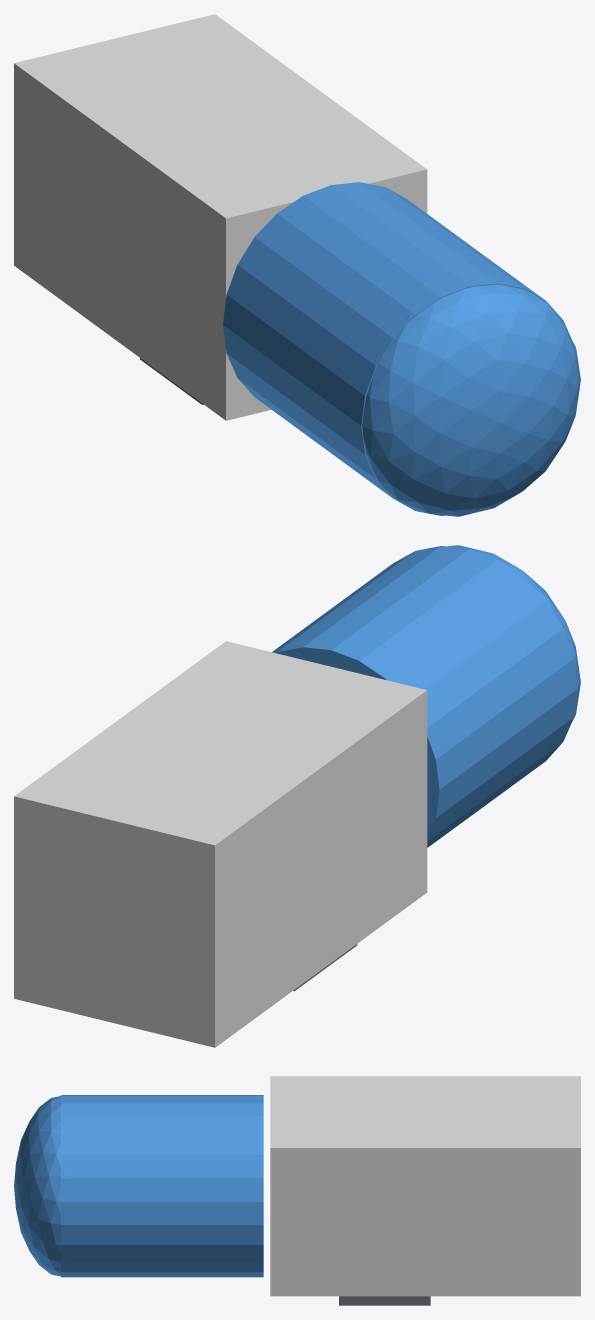
Rendered from 19_water_cooler.glb.
3 renders of one model, top to bottom at view 1: azimuth 30°, elevation 25°; view 2: azimuth 150°, elevation 25°; view 3: azimuth 270°, elevation 25°, orthographic. The views are drawn at different scales.
Visible parts, largest first — view 1: part_1, part_3, part_4; view 2: part_1, part_3, part_4; view 3: part_1, part_3, part_4, part_2.
Part boxes in pixels (box(x1,y1,x2,y2)): part_1: box(14, 14, 427, 420); part_3: box(223, 182, 570, 515); part_4: box(362, 282, 580, 516); part_1: box(14, 641, 427, 1047); part_3: box(272, 546, 577, 847); part_4: box(406, 545, 580, 749); part_1: box(270, 1076, 580, 1296); part_3: box(61, 1095, 263, 1277); part_4: box(14, 1095, 65, 1276); part_2: box(339, 1296, 430, 1305).
Bounding box in the file's own units: 0.56 × 0.63 × 1.73.
